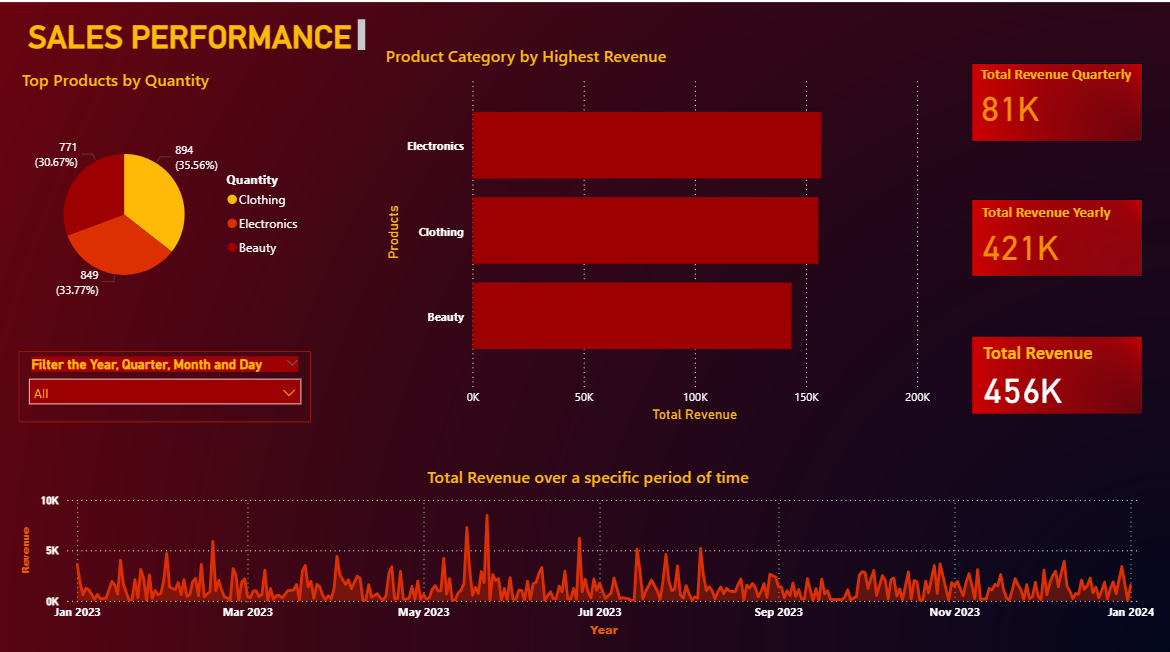

Layout of this report page (visuals, bound fields, positions):
{"tool":"powerbi","page":{"name":"Page 1","canvas":[1280,720],"ordinal":0},"visuals":[{"type":"areaChart","title":"Total Revenue over a specific period of time","fields":{"Category":["retail_sales_dataset.Date.Variation.Date Hierarchy.Year","retail_sales_dataset.Date.Variation.Date Hierarchy.Quarter","retail_sales_dataset.Date.Variation.Date Hierarchy.Month","retail_sales_dataset.Date.Variation.Date Hierarchy.Day"],"Y":["Sum(retail_sales_dataset.Revenue)"]},"box":[32.9,506.3,1217.7,188.6],"z":0},{"type":"slicer","fields":{"Values":["retail_sales_dataset.Date.Variation.Date Hierarchy.Year","retail_sales_dataset.Date.Variation.Date Hierarchy.Quarter","retail_sales_dataset.Date.Variation.Date Hierarchy.Month","retail_sales_dataset.Date.Variation.Date Hierarchy.Day"]},"box":[34,384,312,76],"z":1000},{"type":"clusteredBarChart","title":"Product Category by  Highest Revenue","fields":{"Category":["retail_sales_dataset.Products"],"Y":["retail_sales_dataset.Total Revenue"]},"box":[421.5,57,591.1,407.6],"z":2000},{"type":"pieChart","fields":{"Category":["retail_sales_dataset.Products"],"Y":["Sum(retail_sales_dataset.Quantity)"]},"box":[33.3,82.7,313.3,289.3],"z":3000},{"type":"textbox","box":[33.3,25.3,376,45.3],"z":4000},{"type":"cardVisual","fields":{"Data":["retail_sales_dataset.Total Revenue"]},"box":[1046.8,354.4,205.1,110.1],"z":5000},{"type":"cardVisual","fields":{"Data":["retail_sales_dataset.Total Revenue Yearly"]},"box":[1045.6,205.1,206.3,110.1],"z":6000},{"type":"cardVisual","fields":{"Data":["retail_sales_dataset.Total Revenue Quarterly"]},"box":[1044.3,57,206.3,110.1],"z":7000}]}

Visuals, with their boxes in screenshot pixels (x1, y1, x2, y2), scaled from the page's 1280x720 canvas onto the 1170x652 screenshot:
"Total Revenue over a specific period of time" areaChart: {"x1": 30, "y1": 458, "x2": 1143, "y2": 629}
slicer - retail_sales_dataset.Date.Variation.Date Hierarchy.Year x retail_sales_dataset.Date.Variation.Date Hierarchy.Quarter: {"x1": 31, "y1": 348, "x2": 316, "y2": 417}
"Product Category by  Highest Revenue" clusteredBarChart: {"x1": 385, "y1": 52, "x2": 926, "y2": 421}
pieChart - retail_sales_dataset.Products x Sum(retail_sales_dataset.Quantity): {"x1": 30, "y1": 75, "x2": 317, "y2": 337}
textbox: {"x1": 30, "y1": 23, "x2": 374, "y2": 64}
cardVisual - retail_sales_dataset.Total Revenue: {"x1": 957, "y1": 321, "x2": 1144, "y2": 421}
cardVisual - retail_sales_dataset.Total Revenue Yearly: {"x1": 956, "y1": 186, "x2": 1144, "y2": 285}
cardVisual - retail_sales_dataset.Total Revenue Quarterly: {"x1": 955, "y1": 52, "x2": 1143, "y2": 151}
